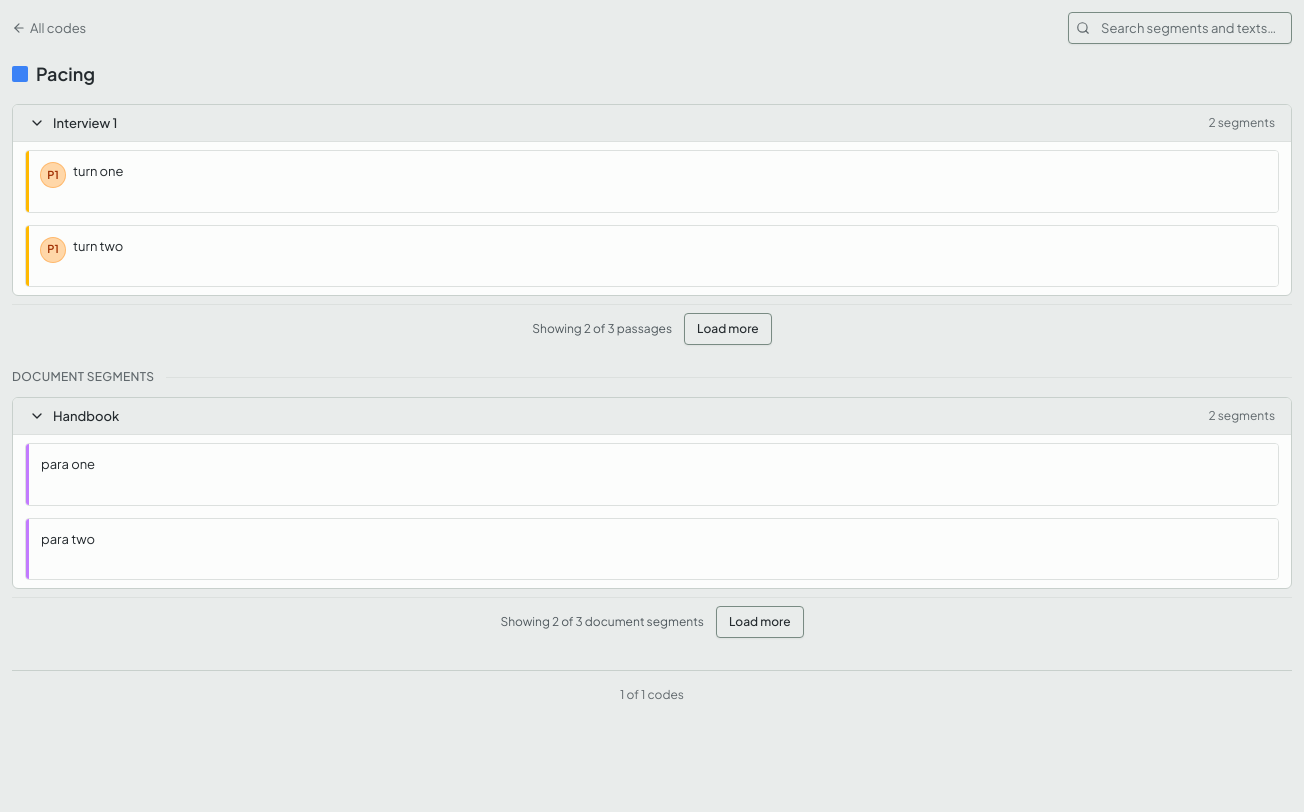
Scenario: #968 review — the search line names what was searched › says the search ran over the LOADED rows while more remain
Expected: the text "turn one" is shown, x1=73 y1=163 x2=124 y2=179
Type "two" into the field with placeholder "Search segments and texts…". click: (1180, 28)
box: x1=1068 y1=12 x2=1292 y2=44
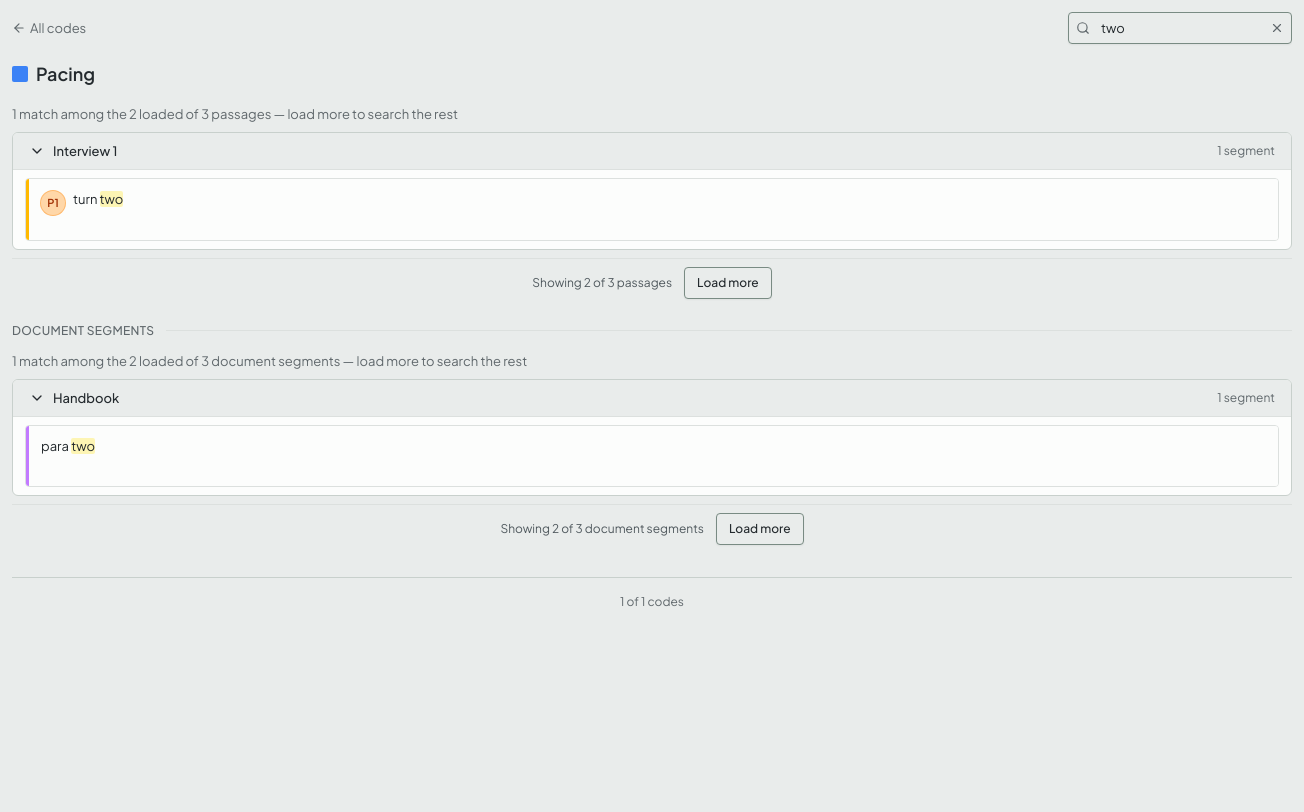
Expected: the text "1 match among the 2 loaded of 3 passages — load more to search the rest" is shown, x1=12 y1=106 x2=458 y2=122
